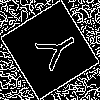Y: (25, 24, 83, 77)
